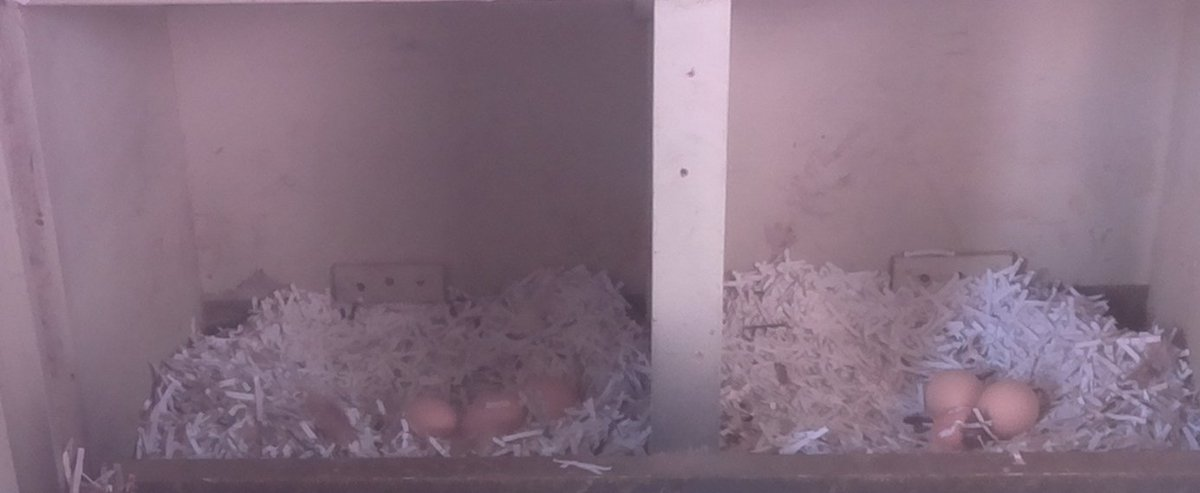egg: (457, 387, 528, 447), (977, 376, 1043, 437), (916, 366, 986, 414), (397, 391, 461, 442), (523, 374, 586, 421), (926, 409, 979, 449)
